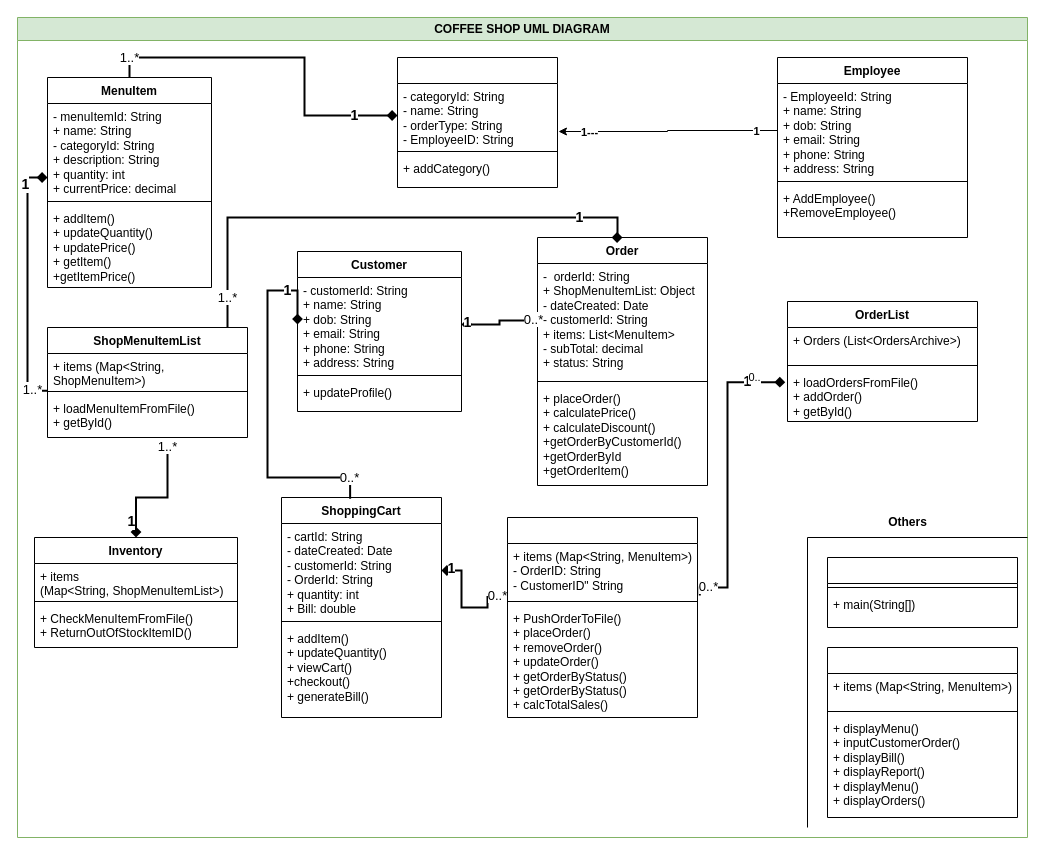
Image size: 1046x855. Some labels were removed from this diagram. The shapes that lost their labels are listed below. From the top down, each one's box as (x1, y1, x2, y2) in pixels, then its label:
(396, 56, 558, 188): ItemCategory
(826, 556, 1018, 628): CoffeeShop
(506, 516, 698, 718): OrderArchive
(826, 646, 1018, 818): SystemGUI
